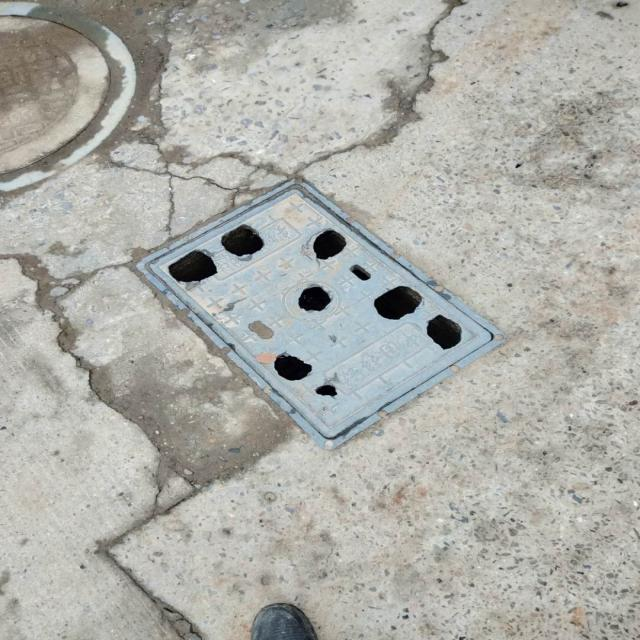Faulty: (131, 177, 506, 449)
